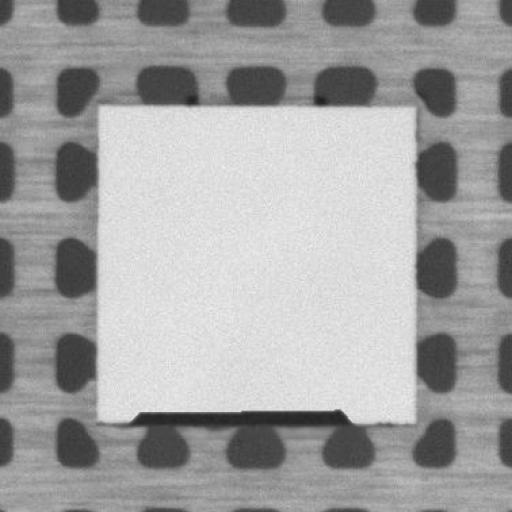DIE_BROKEN: (123, 402, 354, 430)
